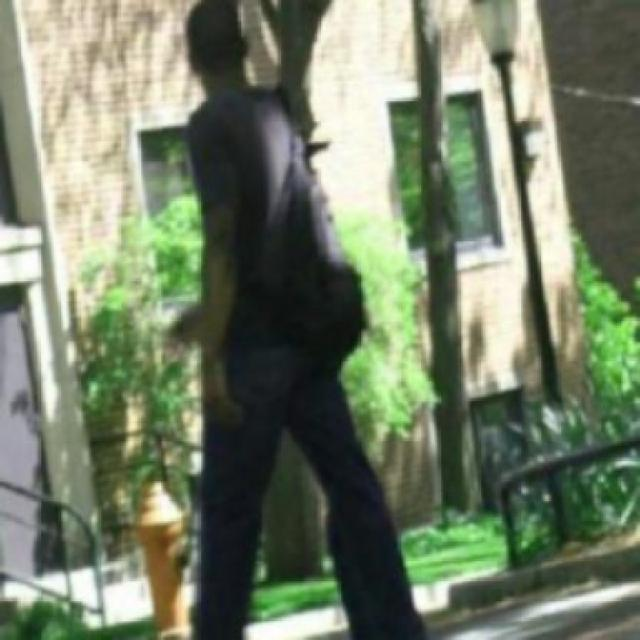Person: (169, 0, 433, 638)
